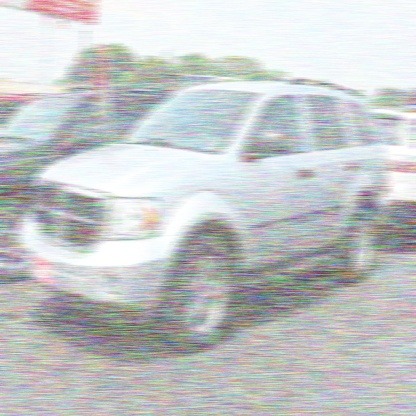Vehicle: (13, 64, 401, 384)
